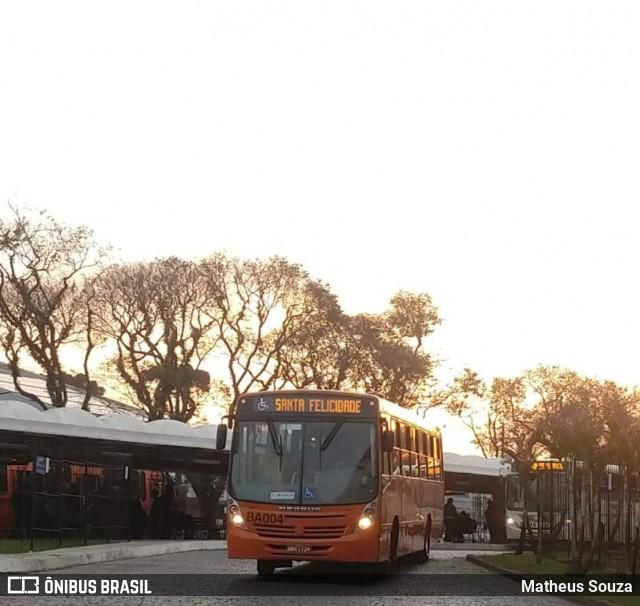SANTA FELICIDADE: (272, 396, 365, 415)
